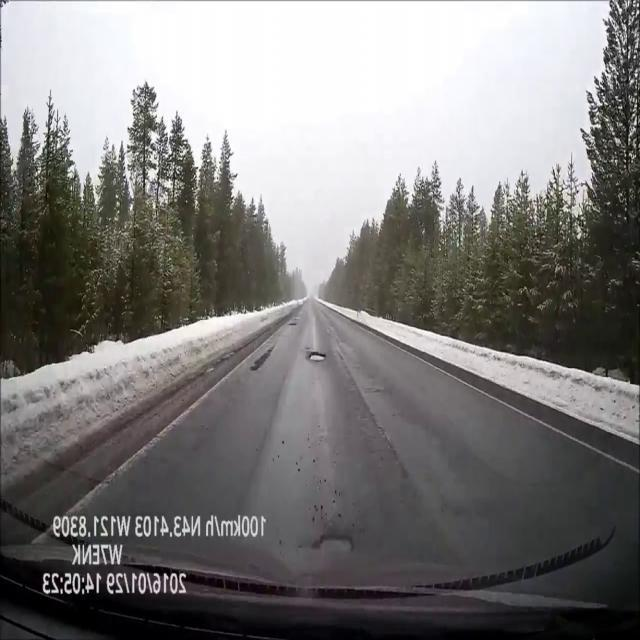pothole: (312, 534, 354, 552), (307, 351, 327, 361), (289, 322, 297, 326)
